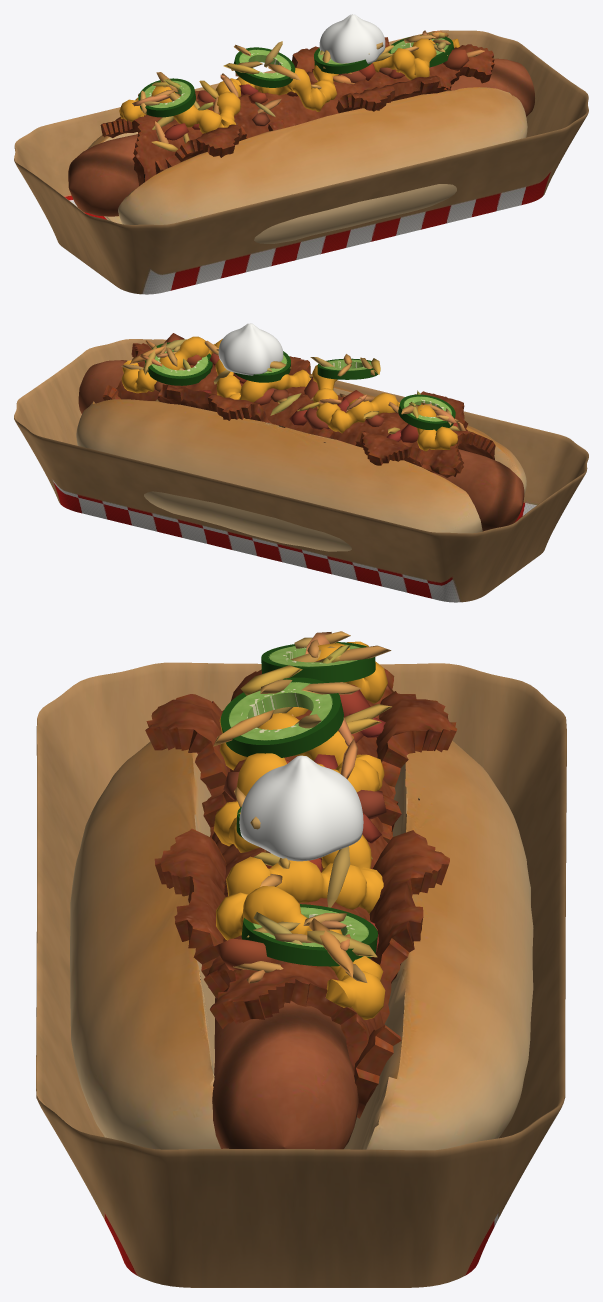
File: chili-hotdog.glb
3 views of the same model, one above another, from view 1: azimuth 30°, elevation 25°; view 2: azimuth 150°, elevation 25°; view 3: azimuth 270°, elevation 25° (orthographic). The views are drawn at different scales.
Visible parts, largest first — view 1: base, bun, chili, beef-sausage, cheese-sauce, crispy, jalapeno, cream; view 2: base, bun, chili, cheese-sauce, beef-sausage, jalapeno, crispy, cream; view 3: base, bun, chili, beef-sausage, cheese-sauce, jalapeno, crispy, cream.
Boxes of the visible parts, <box> form: base: <box>14,30,588,294</box>; bun: <box>87,87,527,243</box>; chili: <box>100,37,494,186</box>; beef-sausage: <box>68,58,534,216</box>; cheese-sauce: <box>119,38,459,133</box>; crispy: <box>132,30,484,151</box>; jalapeno: <box>138,35,454,117</box>; cream: <box>319,14,385,63</box>; base: <box>14,339,588,602</box>; bun: <box>76,386,526,551</box>; chili: <box>102,333,495,477</box>; cheese-sauce: <box>121,336,457,451</box>; beef-sausage: <box>78,360,524,531</box>; jalapeno: <box>145,342,455,430</box>; crispy: <box>121,339,471,434</box>; cream: <box>218,323,283,375</box>; base: <box>36,662,566,1287</box>; bun: <box>70,741,533,1150</box>; chili: <box>145,668,457,1118</box>; beef-sausage: <box>212,988,358,1149</box>; cheese-sauce: <box>213,641,387,1019</box>; jalapeno: <box>220,642,377,966</box>; crispy: <box>213,631,392,983</box>; cream: <box>239,755,363,861</box>.
Size of the model in its own units: 0.2046 by 0.0741 by 0.0941.
Materials: 9 (5 with a texture image).
